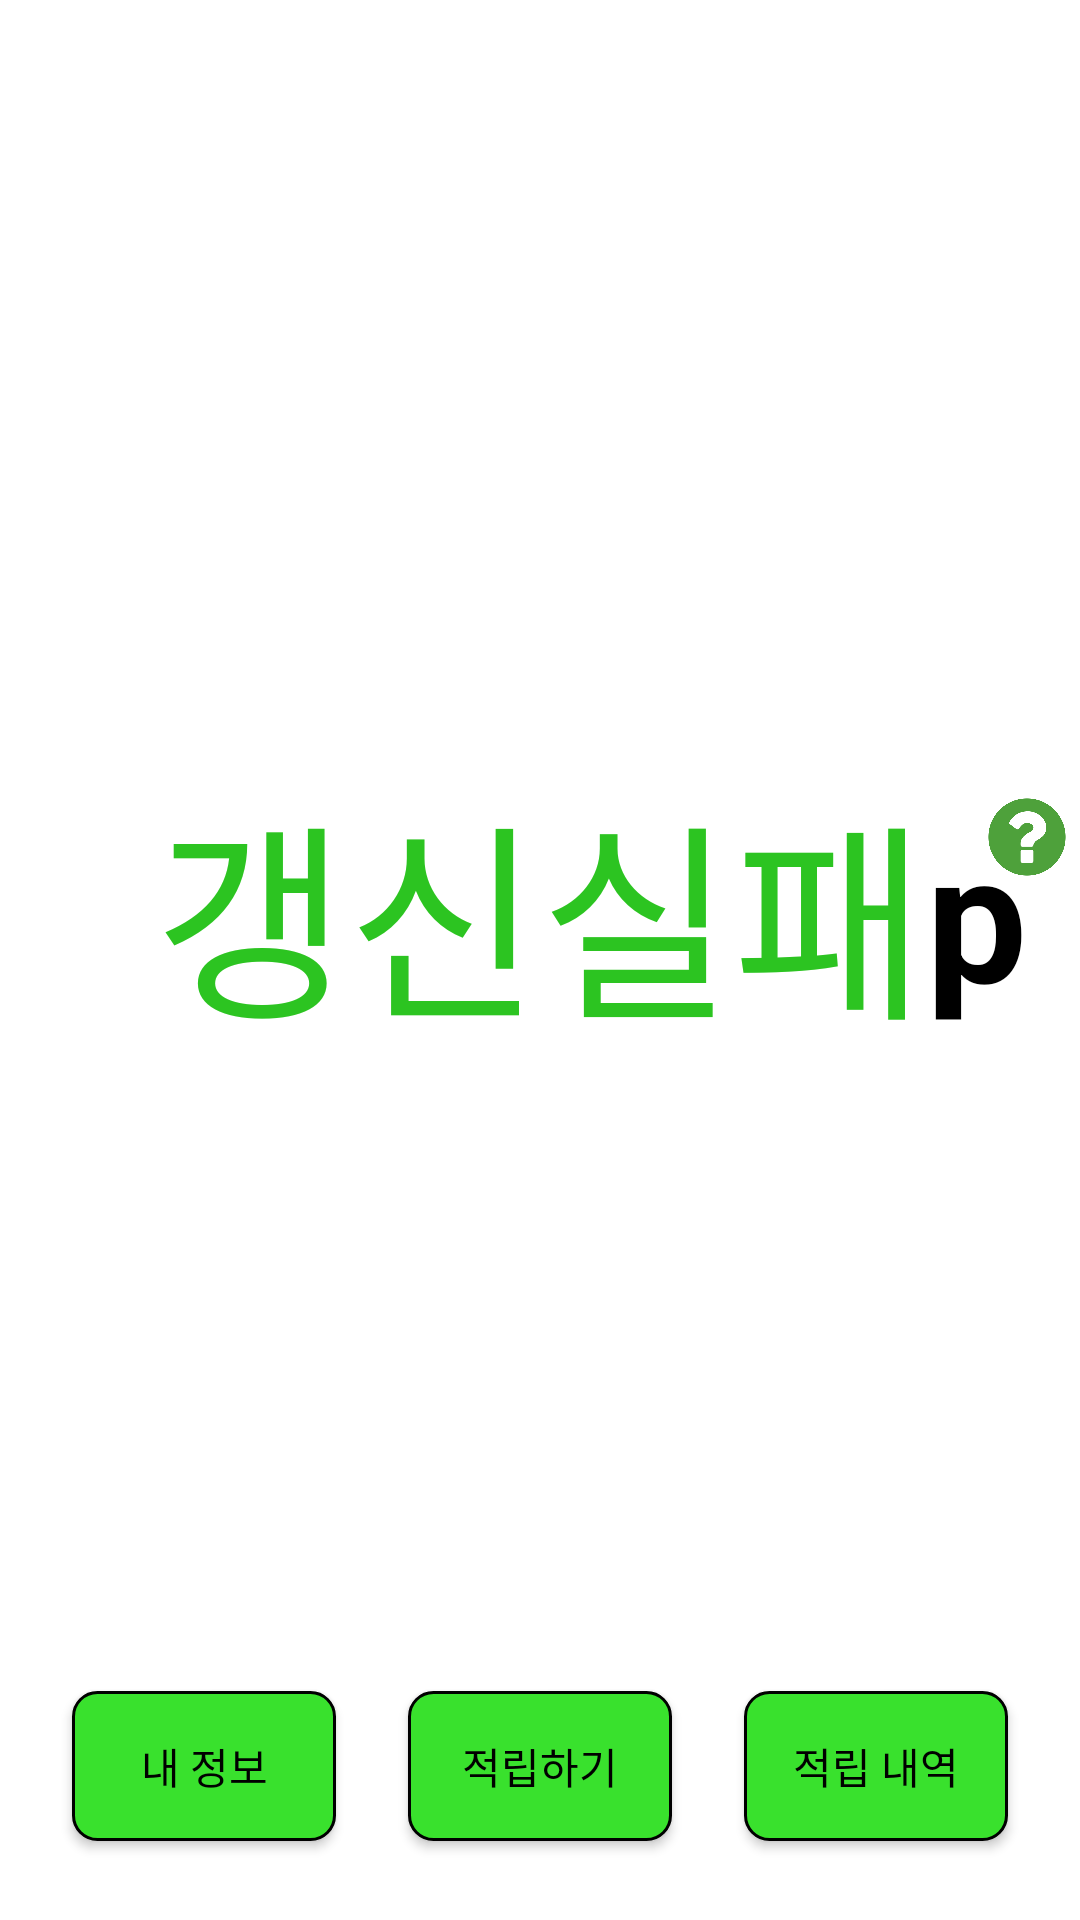

Where icons sit on this 1080w x 1920h app screen, as (x1, y1, x2, y2):
question: (988, 798, 1066, 876)
